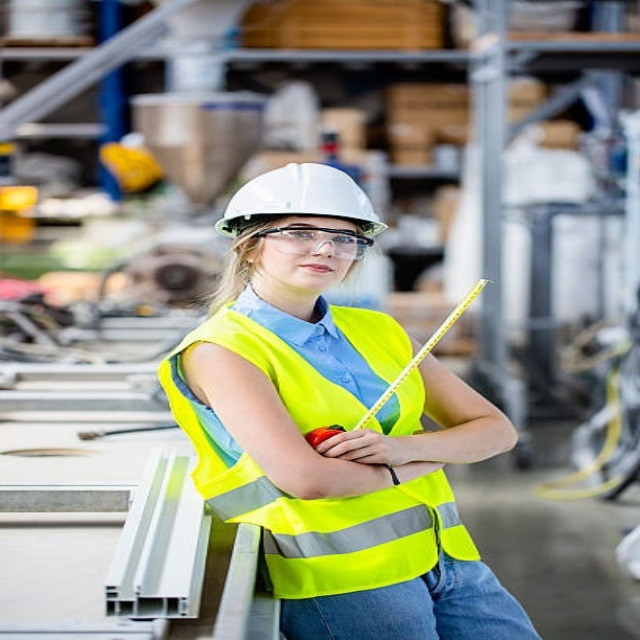Gafas: (258, 229, 374, 261)
Sin_guantes: (315, 426, 420, 471)
Sin_mascara: (282, 261, 347, 285)
